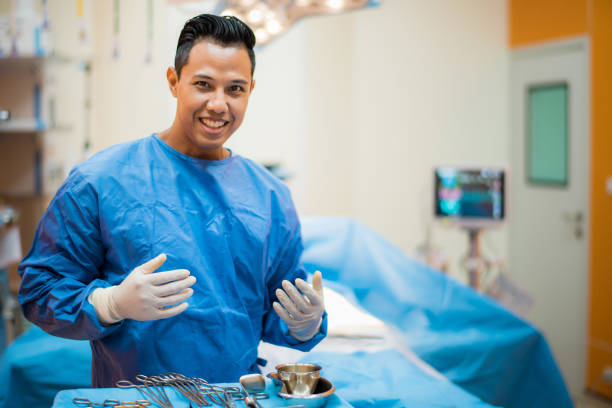bedside_monitor: (428, 165, 510, 224)
door_handle: (560, 209, 585, 240)
staff: (18, 16, 328, 388)
surgical_instrument: (73, 363, 333, 408)
surgical_light: (209, 1, 375, 42)
